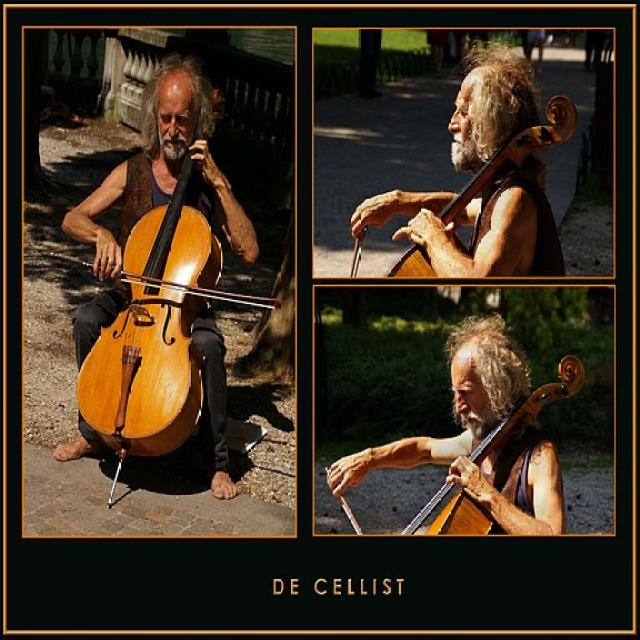cello: (77, 89, 230, 464), (384, 96, 581, 281), (397, 353, 588, 536)
